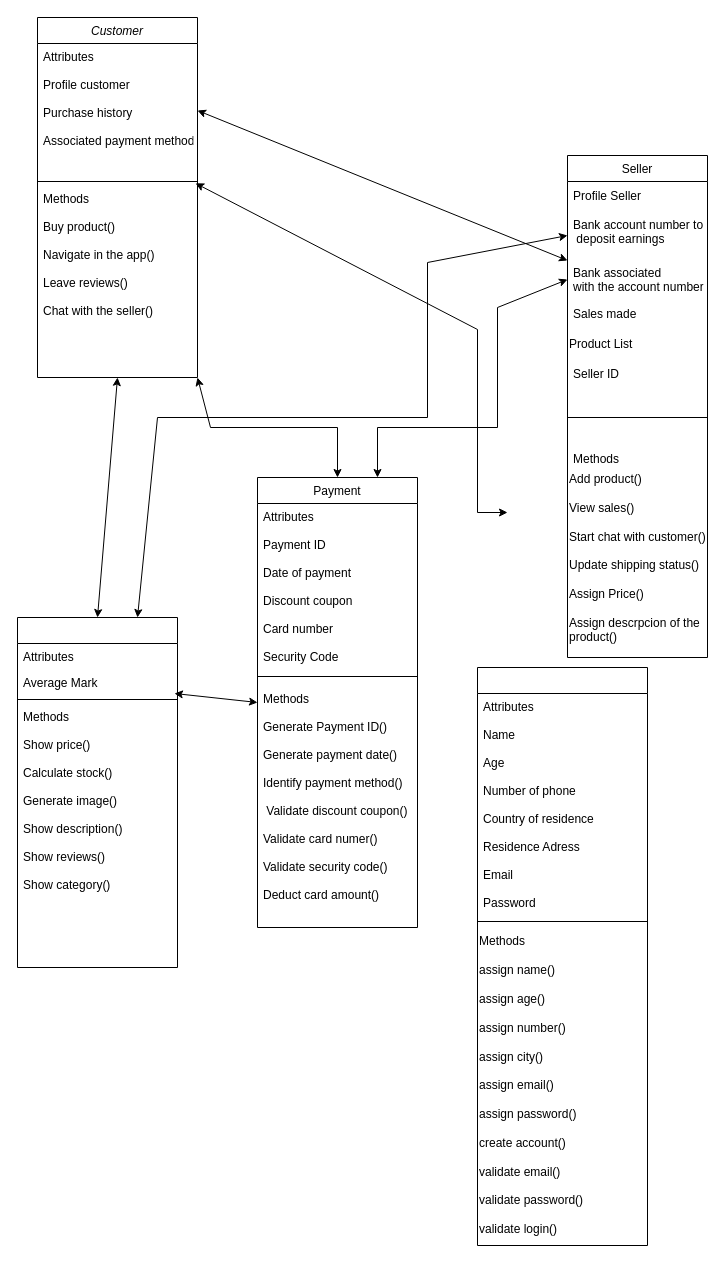
The diagram is 725 pixels wide and 1263 high, and some of its shapes have lost their labels. Here are the shapes that lost their labels. From the top down, the box of each, then its label:
(16, 616, 178, 968): Product
(476, 666, 648, 1246): Create Profile and login
